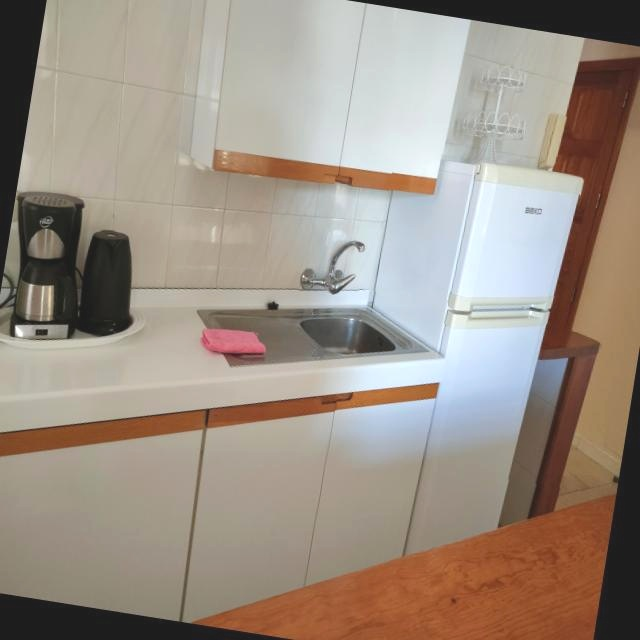cabinet: (0, 385, 440, 623), (190, 0, 472, 197)
countertop: (0, 290, 445, 434), (195, 497, 616, 640)
fridge: (372, 159, 582, 557)
shower: (197, 310, 431, 369), (301, 241, 366, 295)
stove: (529, 332, 600, 518)
